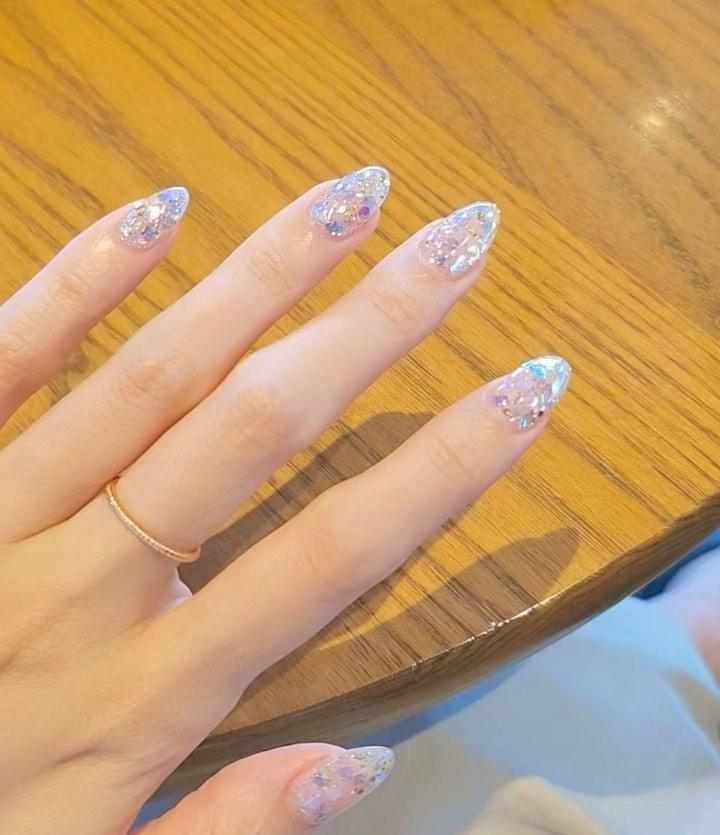nail: (288, 743, 395, 827), (417, 199, 500, 277), (491, 353, 571, 430), (308, 164, 390, 239), (117, 184, 189, 249)
